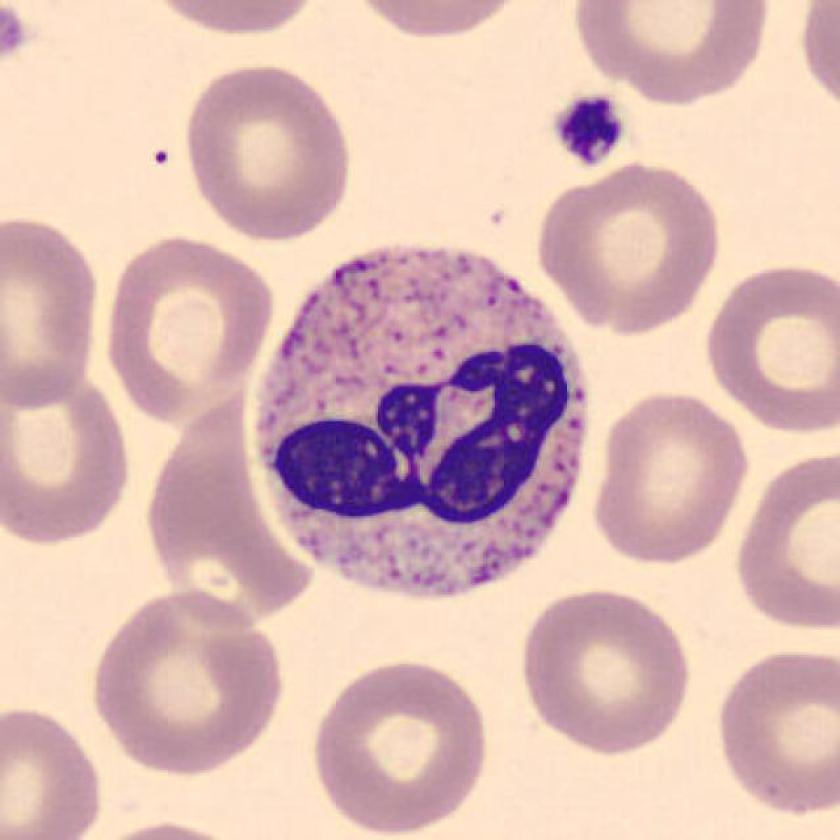neutrophil: (252, 237, 588, 605)
